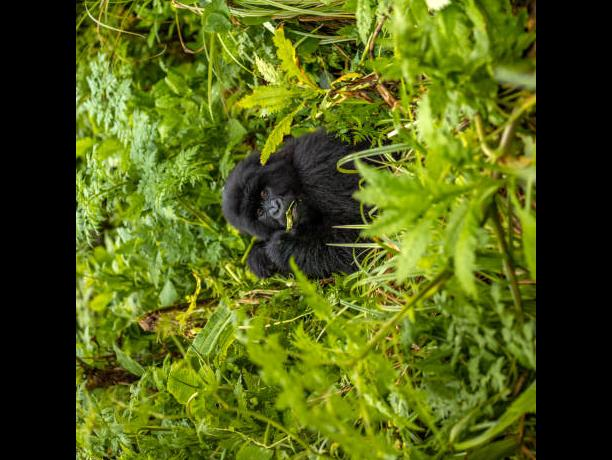goriile_montagne: (218, 138, 356, 278)
